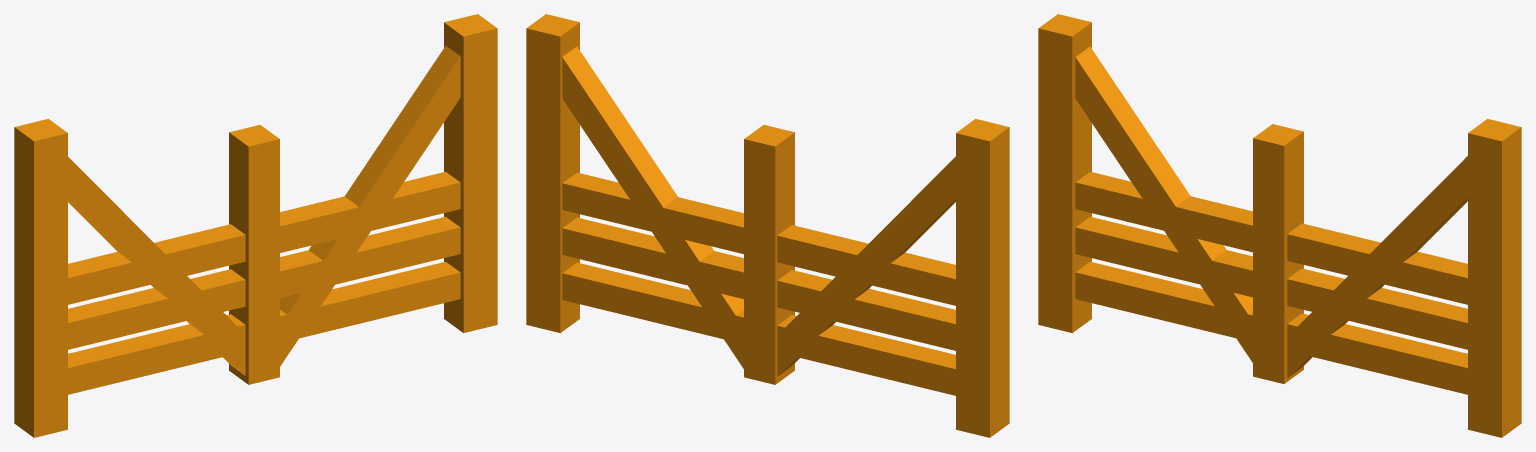
File: V_plank_fences_2.FBX
3 renders of one model, left to right at view 1: azimuth 30°, elevation 25°; view 2: azimuth 150°, elevation 25°; view 3: azimuth 330°, elevation 25°, orthographic.
Parts seen in each view (by area): view 1: V_plank_fences_2; view 2: V_plank_fences_2; view 3: V_plank_fences_2.
Part boxes in pixels (x1,y1,x2,y2): V_plank_fences_2: [14, 14, 497, 437]; V_plank_fences_2: [526, 14, 1009, 437]; V_plank_fences_2: [1038, 14, 1521, 437].
Bounding box in the file's own units: 1.47 × 0.9 × 0.108.
Materials: 1 (1 with a texture image).
